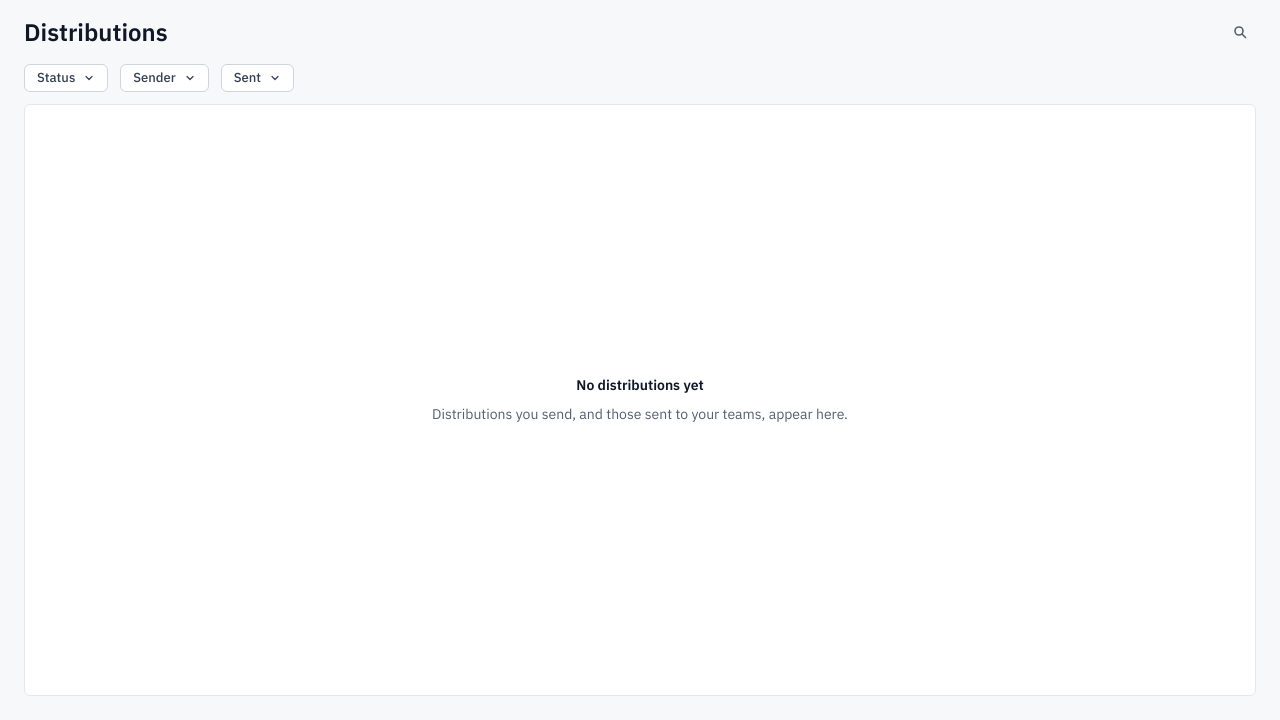
it: the list and Open by ID › Open by ID is a small icon button: no box on the page until it is pressed, then one field in a card
The width and height of the screenshot is (1280, 720).
Expected: the field labelled "Distribution ID or link" is not shown
Click the button named "Open by ID": (1240, 32) [1224,16,1256,48]
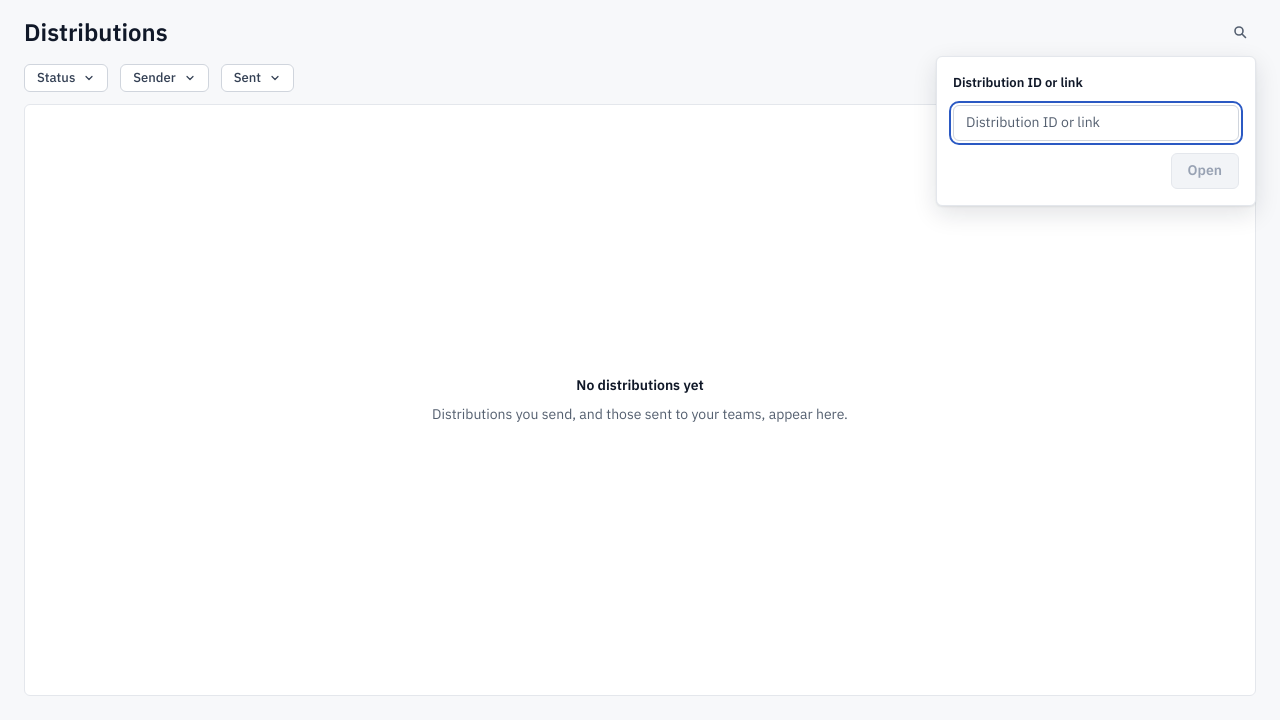
Press Escape
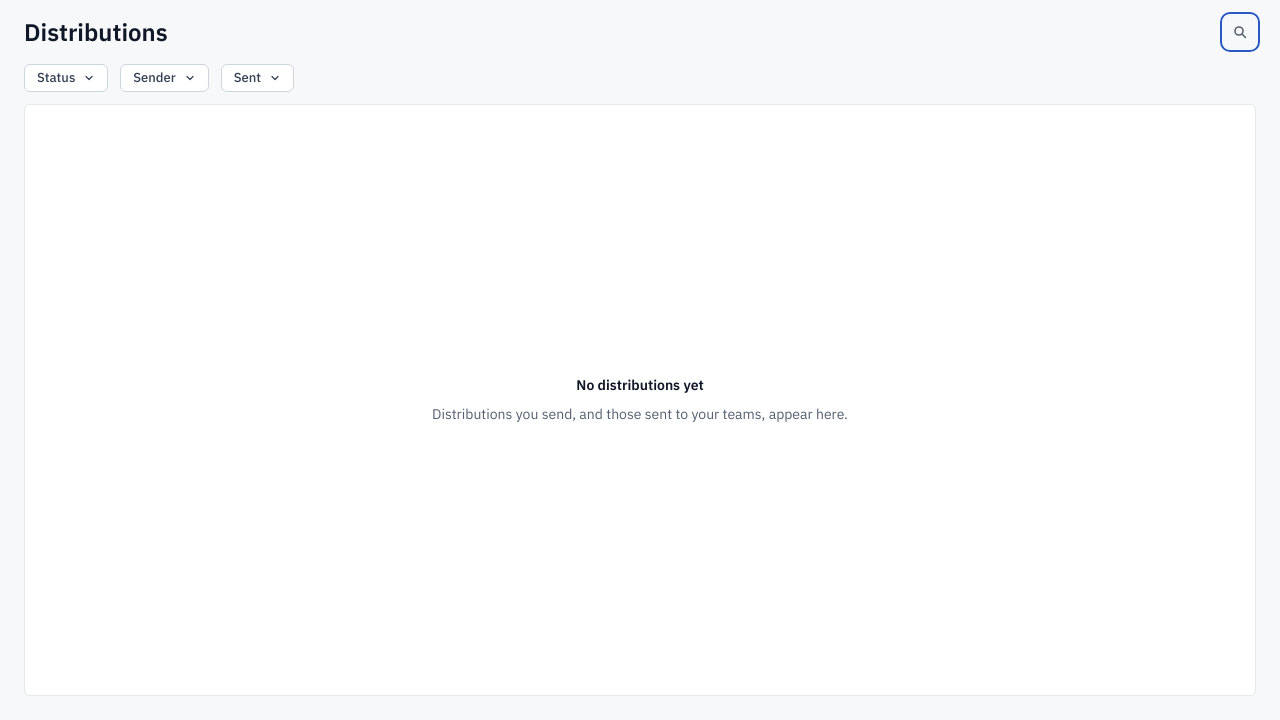
Now the label labelled "Distribution ID or link" is gone
